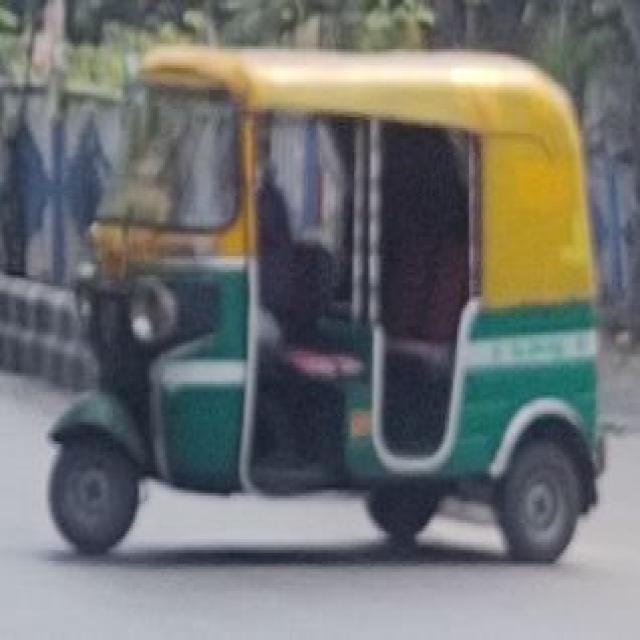autorickshaw: (46, 38, 602, 588)
